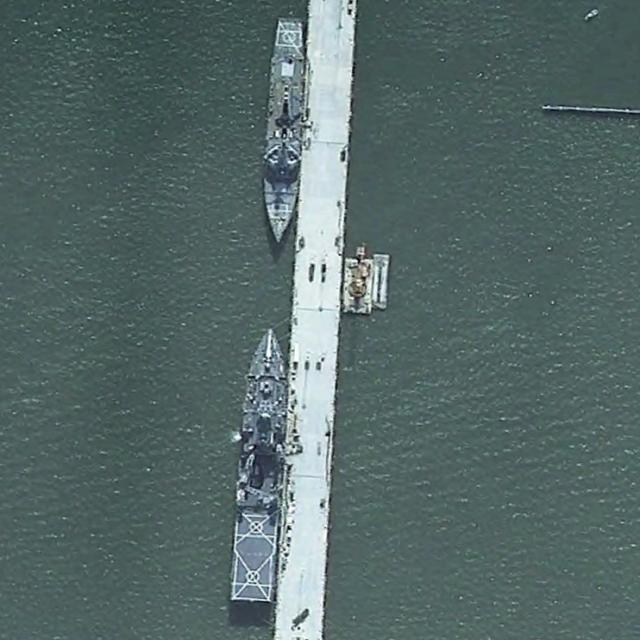Destroyer: (259, 16, 308, 246)
Landing: (228, 326, 292, 604)
